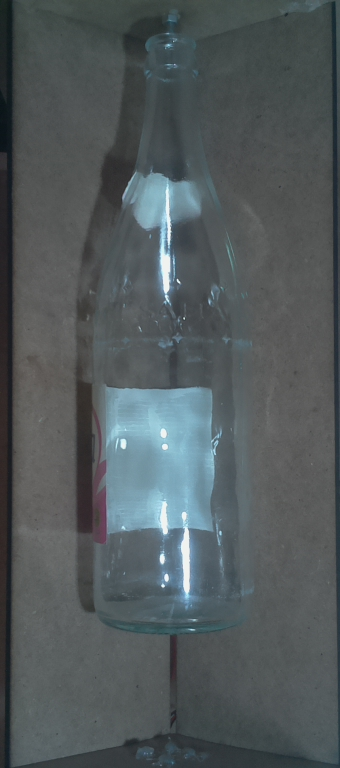Glass: (82, 25, 268, 646)
